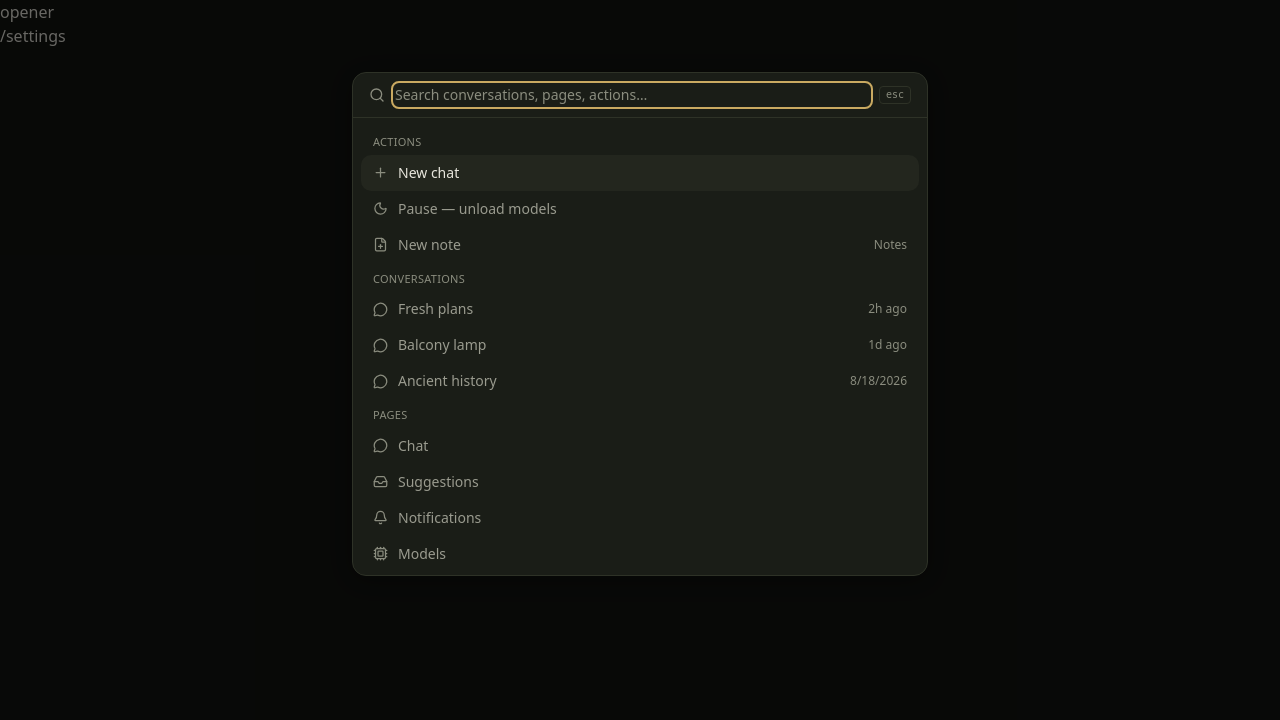
Test case: Command palette (#491) › starts a fresh conversation from the New-chat action
The width and height of the screenshot is (1280, 720).
Expected: the text "Fresh plans" is shown, [398,299,473,318]
Click the option "New chat". click: (429, 172)
box: [361,154,919,190]
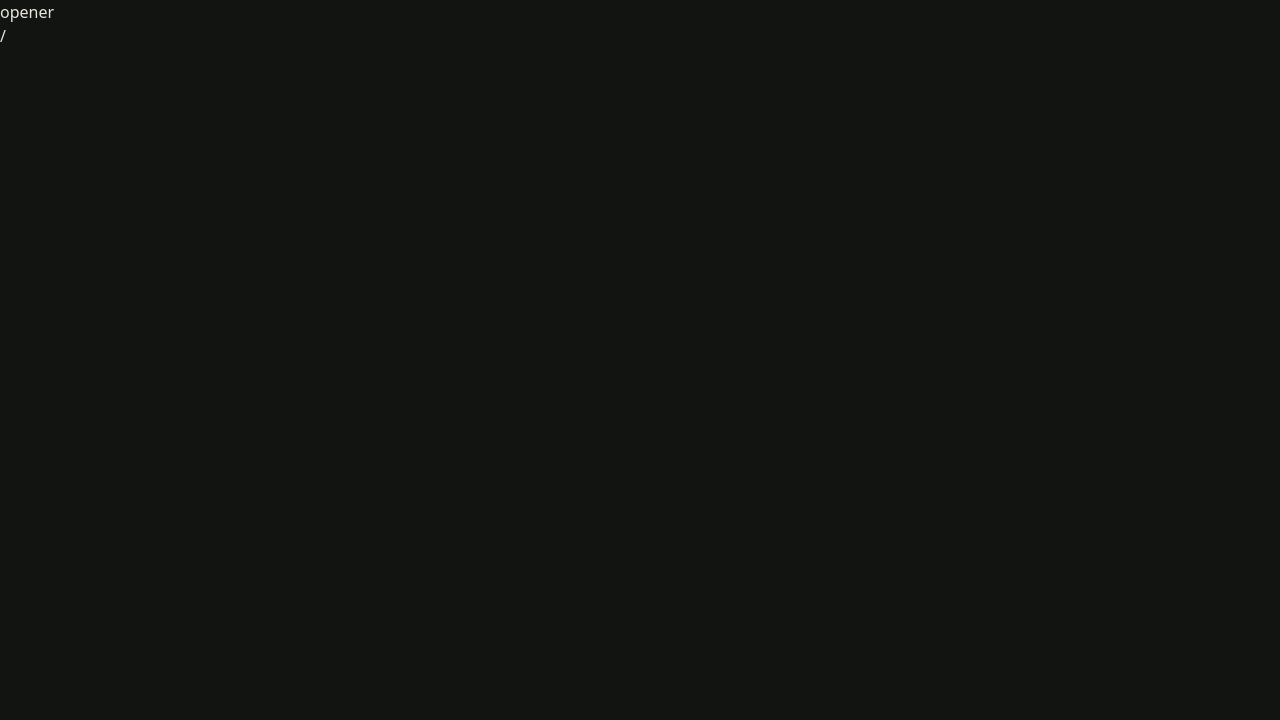
Expected: the text with test id "location" reads "/", [0,25,6,47]
